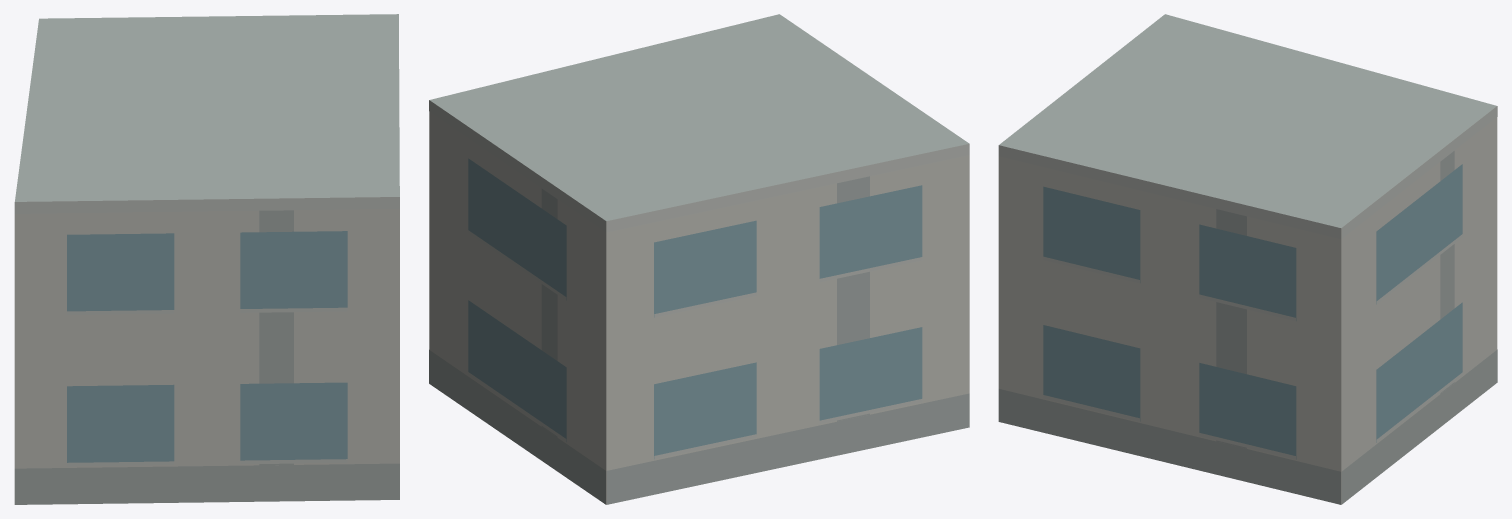
The model's file is survey-upis-33020410.glb.
3 views of the same model, side by side, from view 1: azimuth 30°, elevation 25°; view 2: azimuth 150°, elevation 25°; view 3: azimuth 270°, elevation 25° (orthographic). The views are drawn at different scales.
Parts seen in each view (by area): view 1: survey-upis-33020410.tmp; view 2: survey-upis-33020410.tmp; view 3: survey-upis-33020410.tmp.
Boxes of the visible parts, x1,y1,x2,y2 form: survey-upis-33020410.tmp: [14, 14, 399, 504]; survey-upis-33020410.tmp: [429, 14, 969, 504]; survey-upis-33020410.tmp: [998, 14, 1497, 504].
Bounding box in the file's own units: 10.14 × 6.1 × 9.97.
